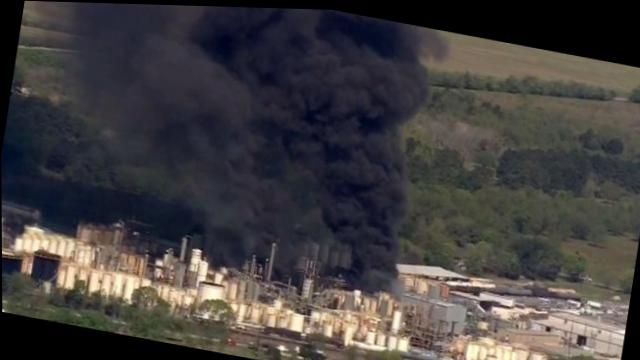smoke: (0, 0, 456, 263), (1, 187, 202, 234), (199, 225, 267, 263), (344, 254, 400, 290), (271, 245, 308, 274)
